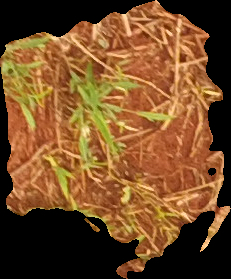soil: (1, 3, 227, 276)
